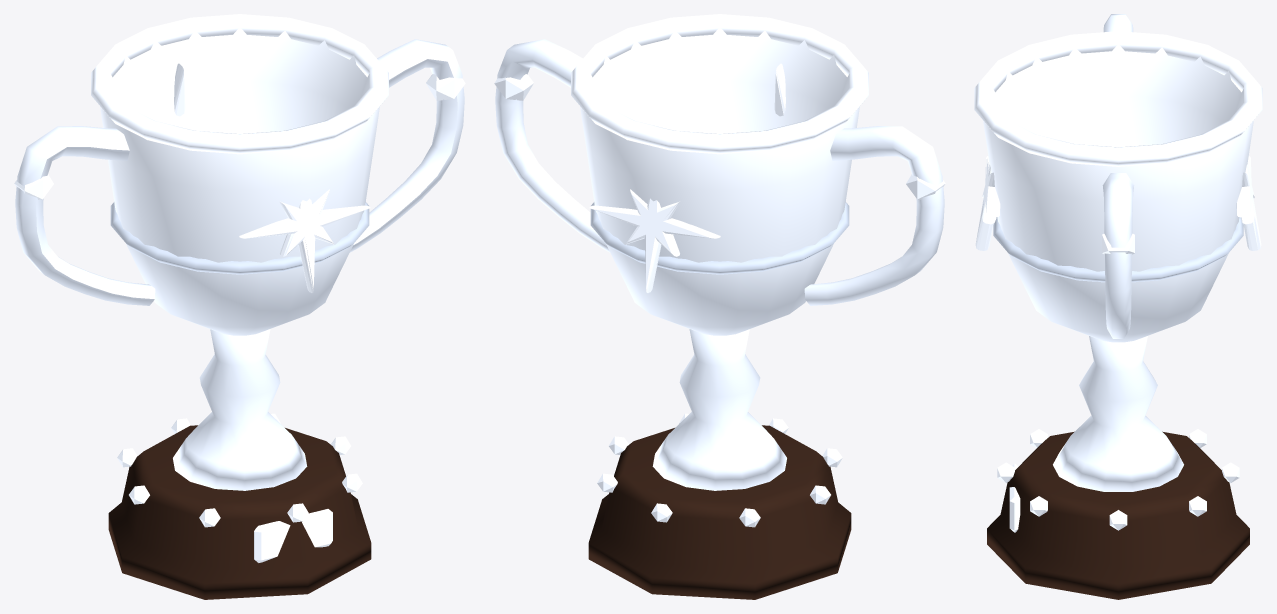
Rendered from trophy-silver.glb.
3 renders of one model, left to right at view 1: azimuth 30°, elevation 25°; view 2: azimuth 150°, elevation 25°; view 3: azimuth 270°, elevation 25°, orthographic. The views are drawn at different scales.
Parts seen in each view (by area): view 1: trophy_mesh; view 2: trophy_mesh; view 3: trophy_mesh.
Boxes of the visible parts, box(x1,y1,x2,y2) form: trophy_mesh: box(14, 14, 465, 599); trophy_mesh: box(494, 14, 945, 599); trophy_mesh: box(974, 14, 1262, 599).
Bounding box in the file's own units: 0.5635 × 0.5714 × 0.3289.
